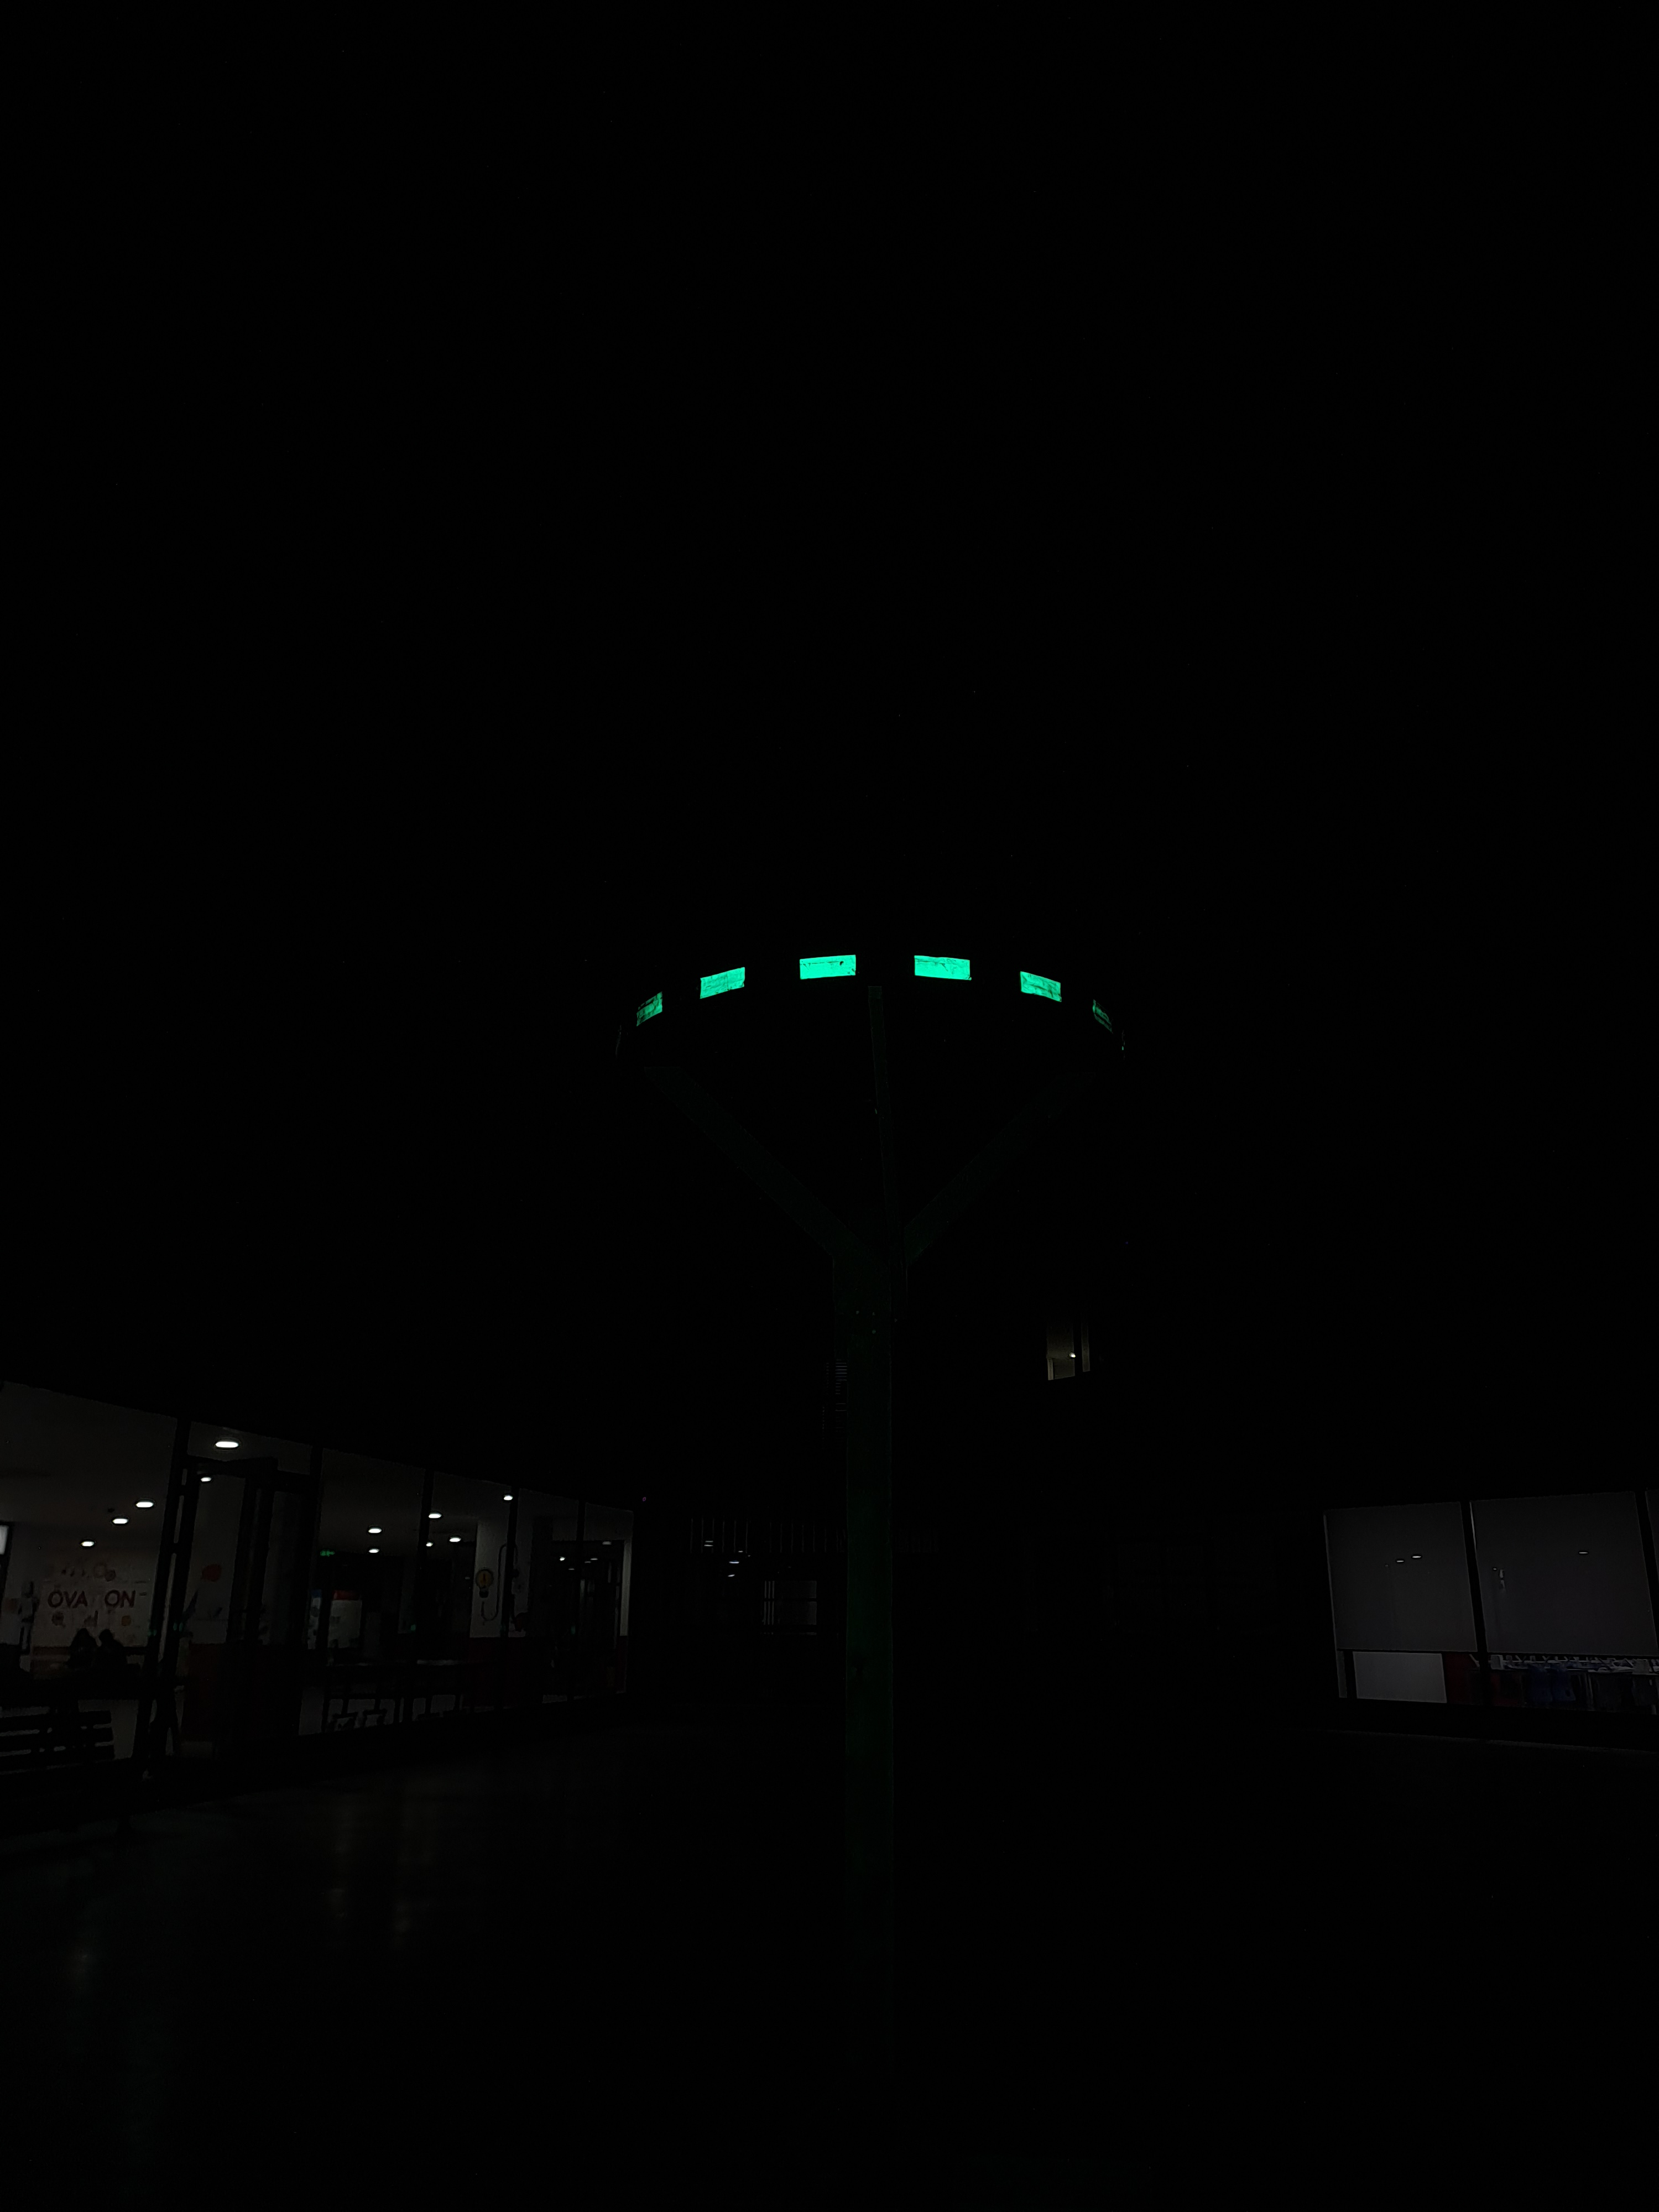hoop: (631, 942, 1066, 1043)
